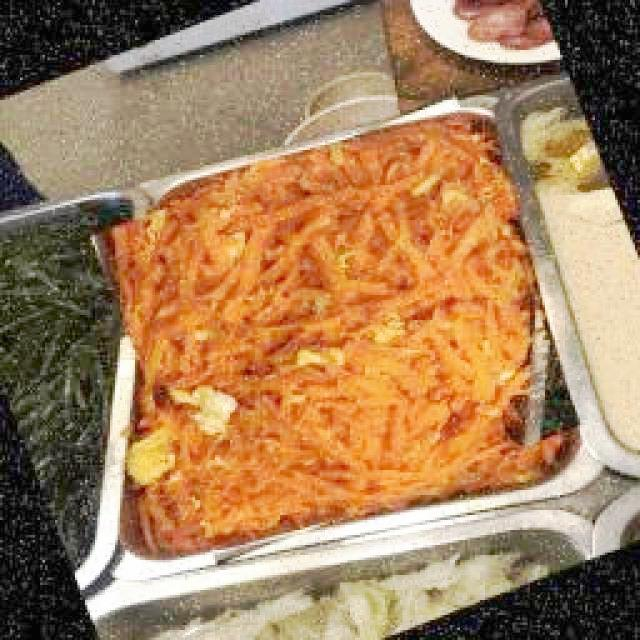carrot_eggs: (136, 160, 567, 497)
